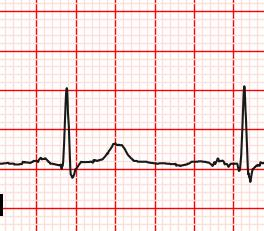LVH: (93, 140, 136, 167)
